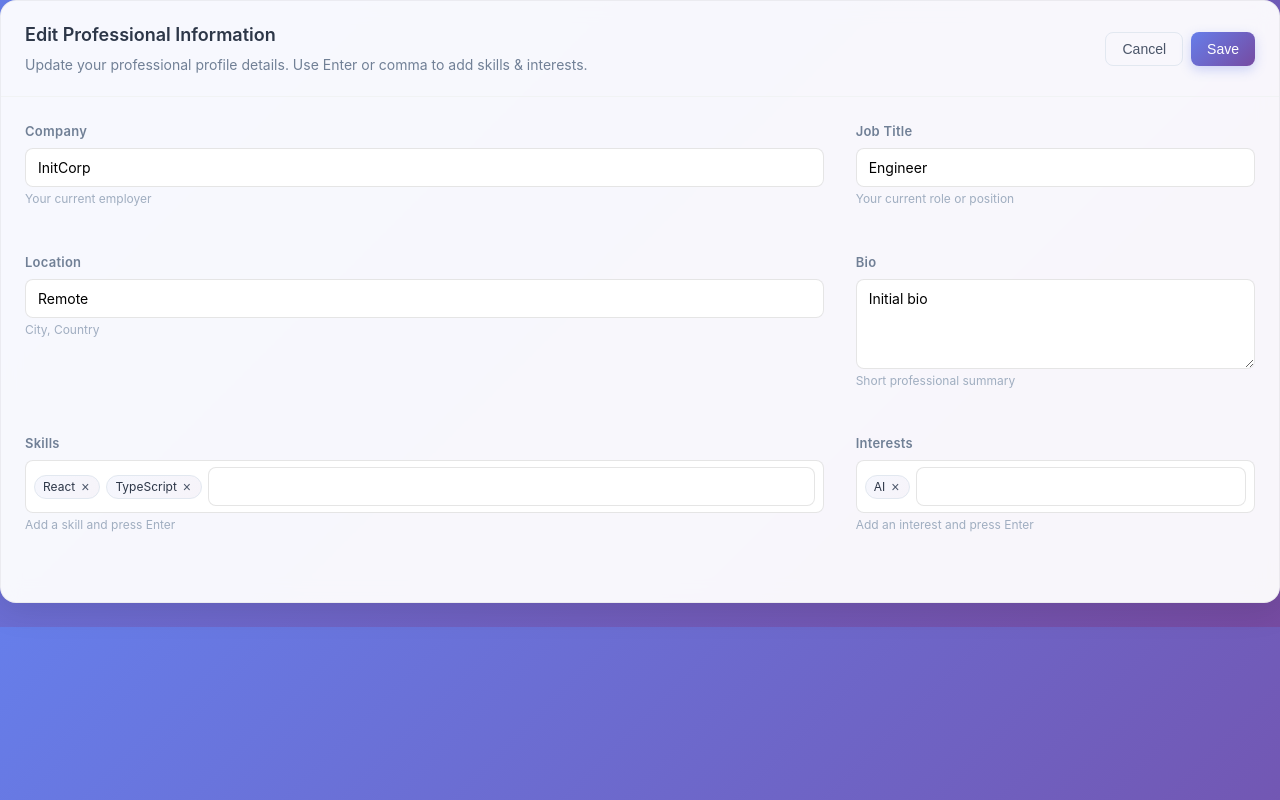
EditProfessionalInfoForm › shows error when saveUpdates fails
Replace the text in the field labelled "Company" with "BrokenCorp": [424, 168] box [25,148,824,187]
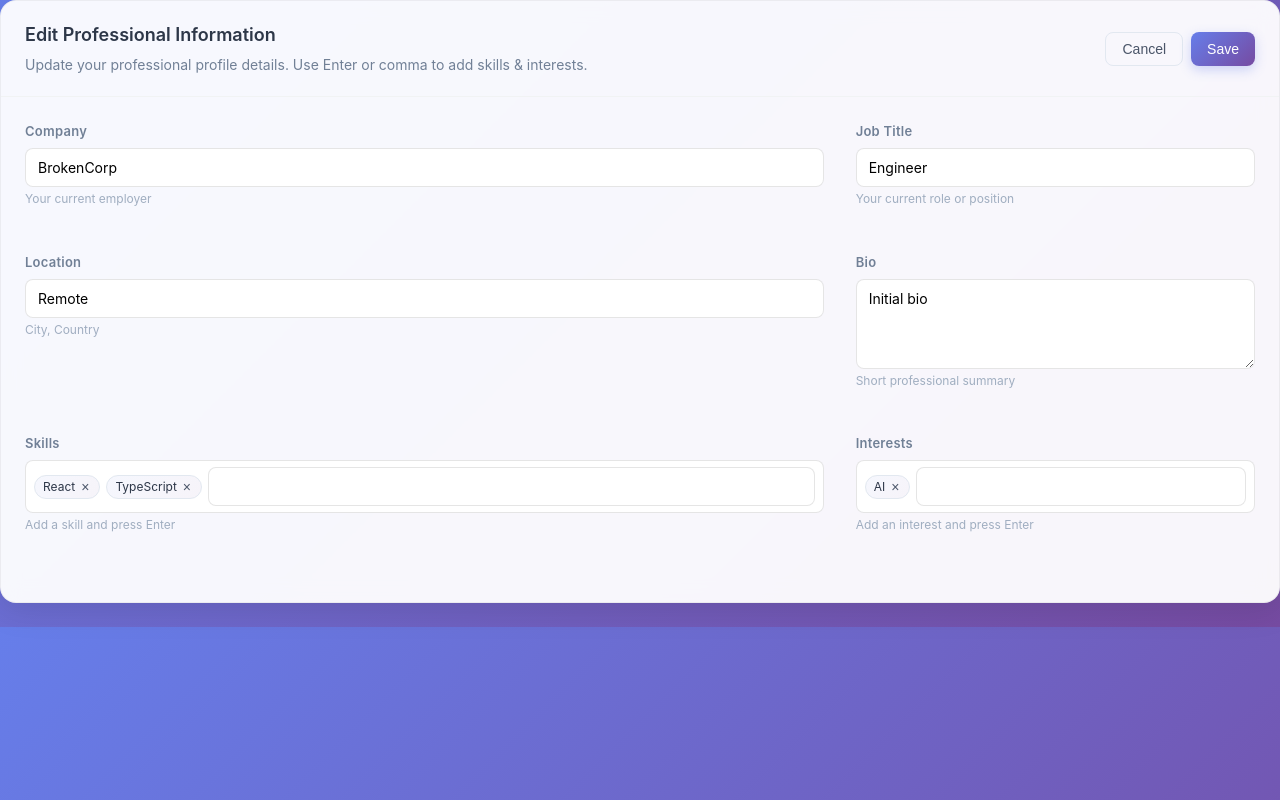
Click the button "Save": [1223, 49] box [1191,32,1255,66]
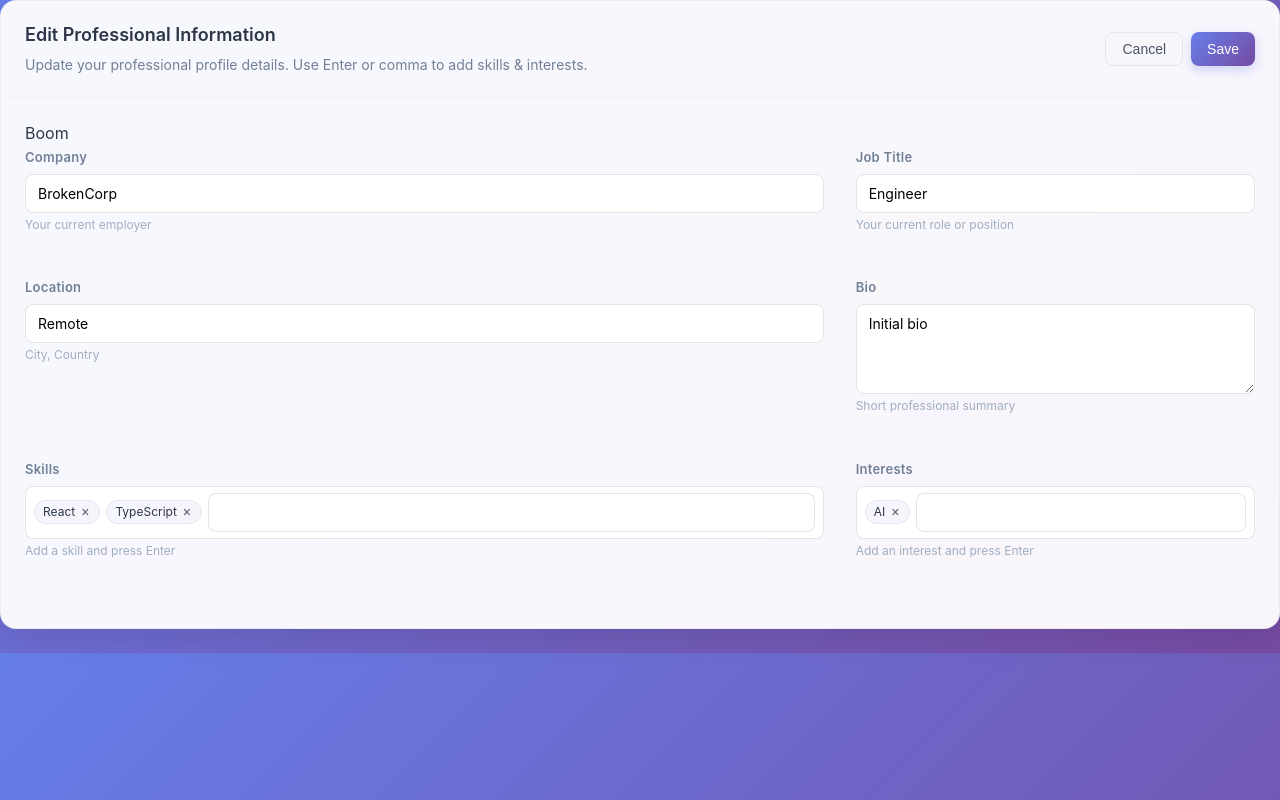
Expected: the message reads "Boom", [25,123,69,143]
